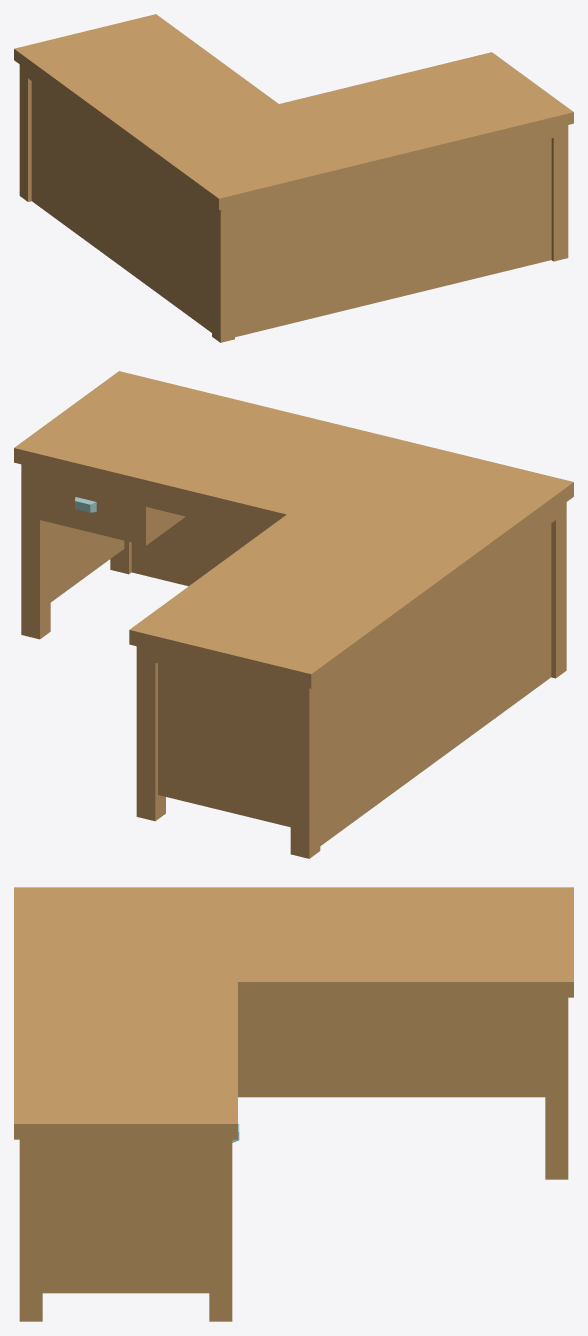
File: deskCorner.glb
3 views of the same model, one above another, from view 1: azimuth 30°, elevation 25°; view 2: azimuth 150°, elevation 25°; view 3: azimuth 270°, elevation 25° (orthographic). The views are drawn at different scales.
Bounding box in the file's own units: 9.74 × 3.84 × 9.74.
